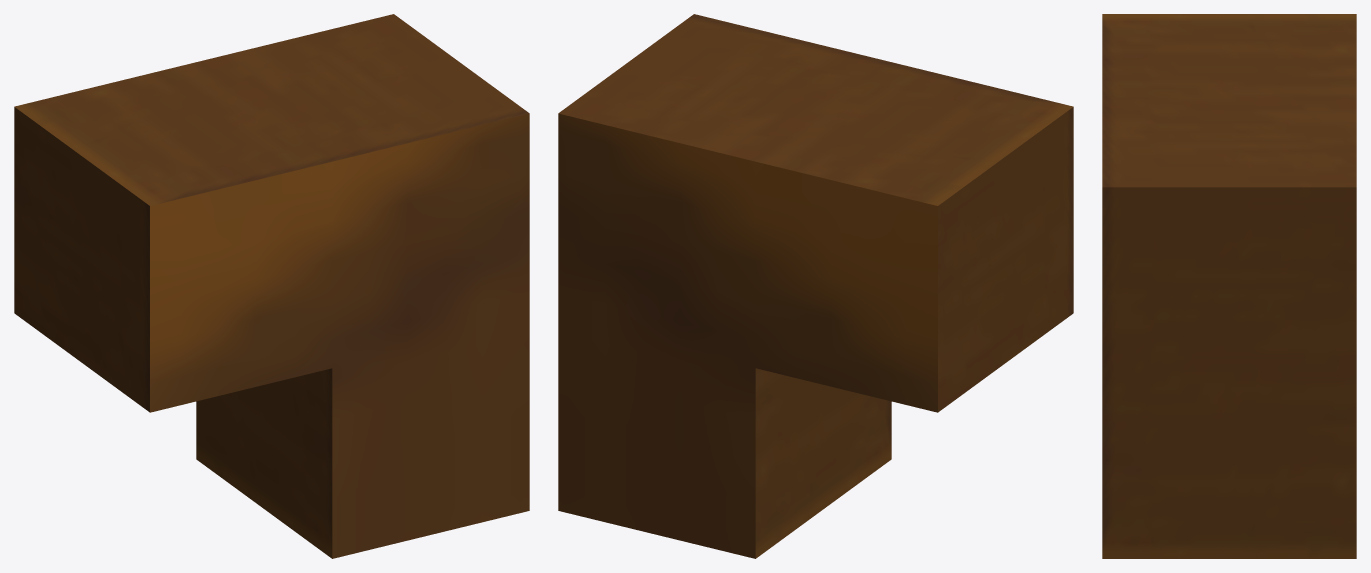
Rendered from pz_counter_oak_wall_corner.obj.
The picture shows the model from 3 angles, left to right: view 1: azimuth 30°, elevation 25°; view 2: azimuth 150°, elevation 25°; view 3: azimuth 270°, elevation 25°; orthographic projection. The views are drawn at different scales.
Size of the model in its own units: 1 by 1 by 0.62.
Materials: 1 (1 with a texture image).
